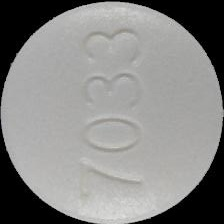68084-288: (0, 0, 224, 224)
